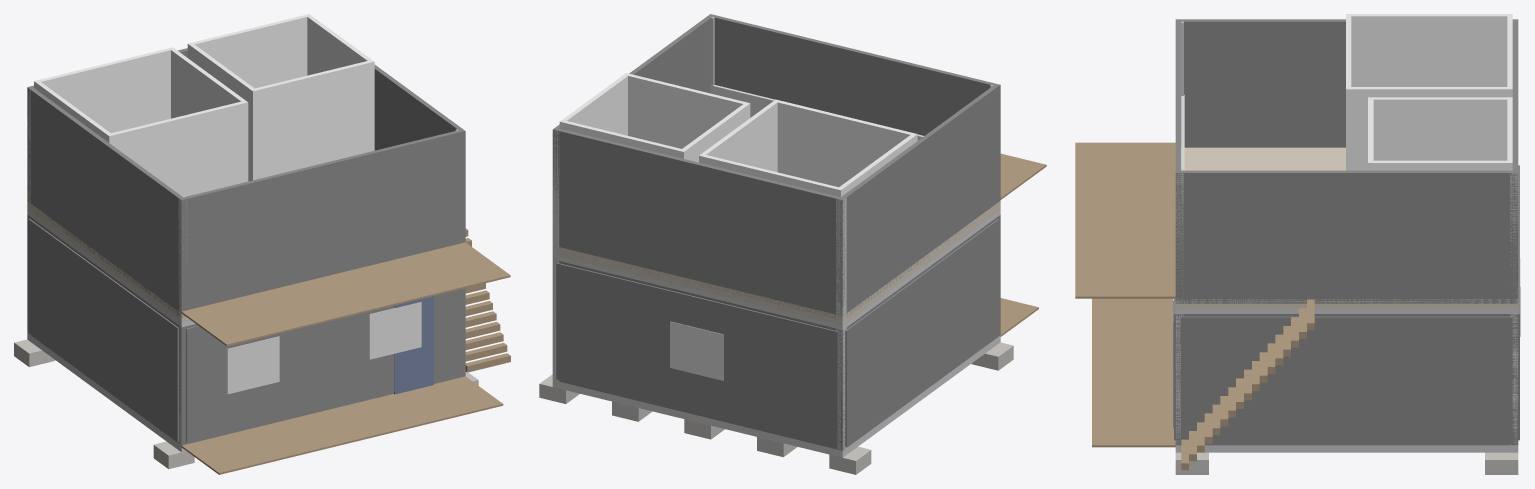
File: Duplex-20-Base-AntiqueWallGrey-LOD0.glb
3 renders of one model, left to right at view 1: azimuth 30°, elevation 25°; view 2: azimuth 150°, elevation 25°; view 3: azimuth 270°, elevation 25°, orthographic. The views are drawn at different scales.
Visible parts, largest first — view 1: ExteriorShellUpper, ExteriorPanelsStandard, StudyUpper, BedroomUpper, BalconyUpper, BalconyGround, WindowsStandard, StaircaseExternal, ExteriorShell, EntryDoor, FoundationBlocks, FloorUpper (+3 smaller); view 2: ExteriorShellUpper, ExteriorPanelsStandard, BedroomUpper, StudyUpper, FloorUpper, VerticalStructure, FoundationBlocks, BaseFrame, ExteriorShell, WindowsStandard, TopFrame, BalconyUpper (+2 smaller); view 3: ExteriorShellUpper, ExteriorPanelsStandard, BalconyUpper, BedroomUpper, BalconyGround, StudyUpper, FloorUpper, StaircaseExternal, ExteriorShell, BaseFrame, VerticalStructure, TopFrame (+1 smaller).
Boxes of the visible parts, x1,y1,x2,y2 form: ExteriorShellUpper: (27,48,465,317); ExteriorPanelsStandard: (28,218,461,442); StudyUpper: (187,14,374,181); BedroomUpper: (34,47,248,196); BalconyUpper: (181,242,510,346); BalconyGround: (181,376,503,474); WindowsStandard: (227,302,421,394); StaircaseExternal: (465,228,510,372); ExteriorShell: (27,215,465,445); EntryDoor: (394,296,433,394); FoundationBlocks: (14,339,478,469); FloorUpper: (27,201,190,322); ExteriorShellUpper: (552,14,1000,318); ExteriorPanelsStandard: (556,219,999,447); BedroomUpper: (699,99,917,197); StudyUpper: (559,73,750,162); FloorUpper: (558,201,1000,325); VerticalStructure: (552,17,998,449); FoundationBlocks: (539,342,1013,474); BaseFrame: (552,335,1000,457); ExteriorShell: (556,215,1000,450); WindowsStandard: (670,321,723,380); TopFrame: (555,210,1000,329); BalconyUpper: (1000,153,1046,199); ExteriorShellUpper: (1175,19,1518,303); ExteriorPanelsStandard: (1174,165,1519,443); BalconyUpper: (1075,142,1175,298); BedroomUpper: (1346,14,1512,170); BalconyGround: (1092,298,1175,447); StudyUpper: (1368,97,1512,170); FloorUpper: (1175,147,1518,308); StaircaseExternal: (1181,299,1314,470); ExteriorShell: (1175,314,1518,445); BaseFrame: (1175,445,1518,452); VerticalStructure: (1175,21,1518,445); TopFrame: (1175,309,1518,313).
Size of the model in its own units: 7.94 by 6 by 8.
